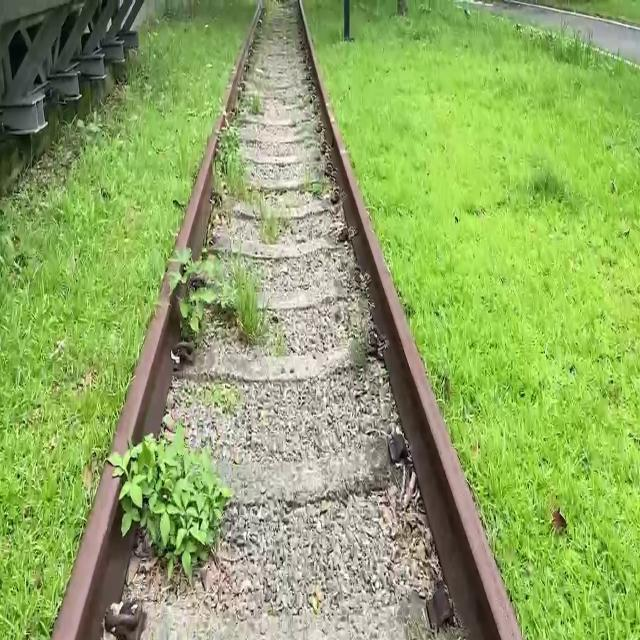rail-track: (124, 2, 462, 640)
